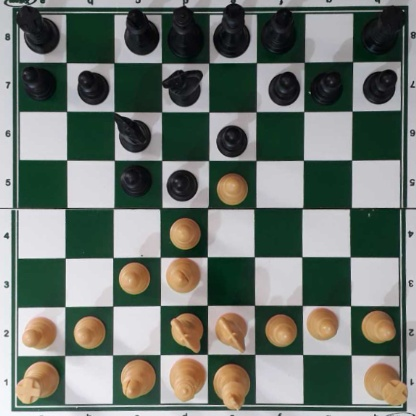black-bishop: (260, 6, 297, 55), (123, 8, 159, 53)
black-king: (215, 1, 251, 59)
black-knight: (112, 112, 151, 151), (164, 67, 201, 106)
black-pawn: (362, 67, 397, 105), (21, 65, 56, 101), (215, 121, 249, 157), (77, 67, 109, 104), (166, 166, 199, 201), (119, 164, 154, 197), (311, 69, 343, 104), (268, 71, 300, 105)
black-queen: (167, 5, 205, 56)
black-rook: (14, 3, 61, 55), (359, 6, 404, 52)
white-bishop: (119, 358, 155, 400), (165, 257, 201, 293)
white-king: (212, 360, 250, 410)
white-knight: (170, 312, 204, 351), (214, 312, 248, 351)
white-pawn: (19, 315, 59, 349), (359, 310, 396, 344), (306, 306, 339, 341), (72, 315, 106, 348), (117, 261, 150, 294), (215, 171, 249, 203), (168, 215, 200, 249), (265, 314, 297, 346)
white-queen: (168, 356, 205, 402)
white-rook: (363, 362, 407, 406), (14, 360, 59, 403)
